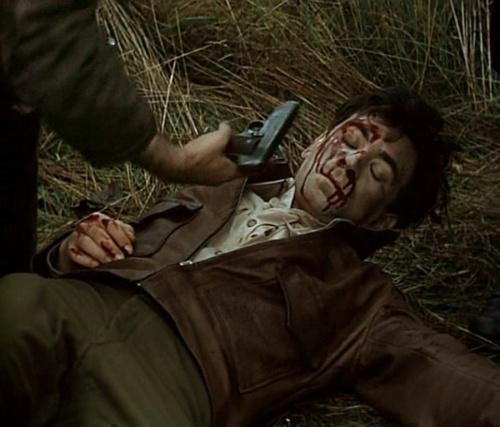Gun: (225, 98, 301, 169)
